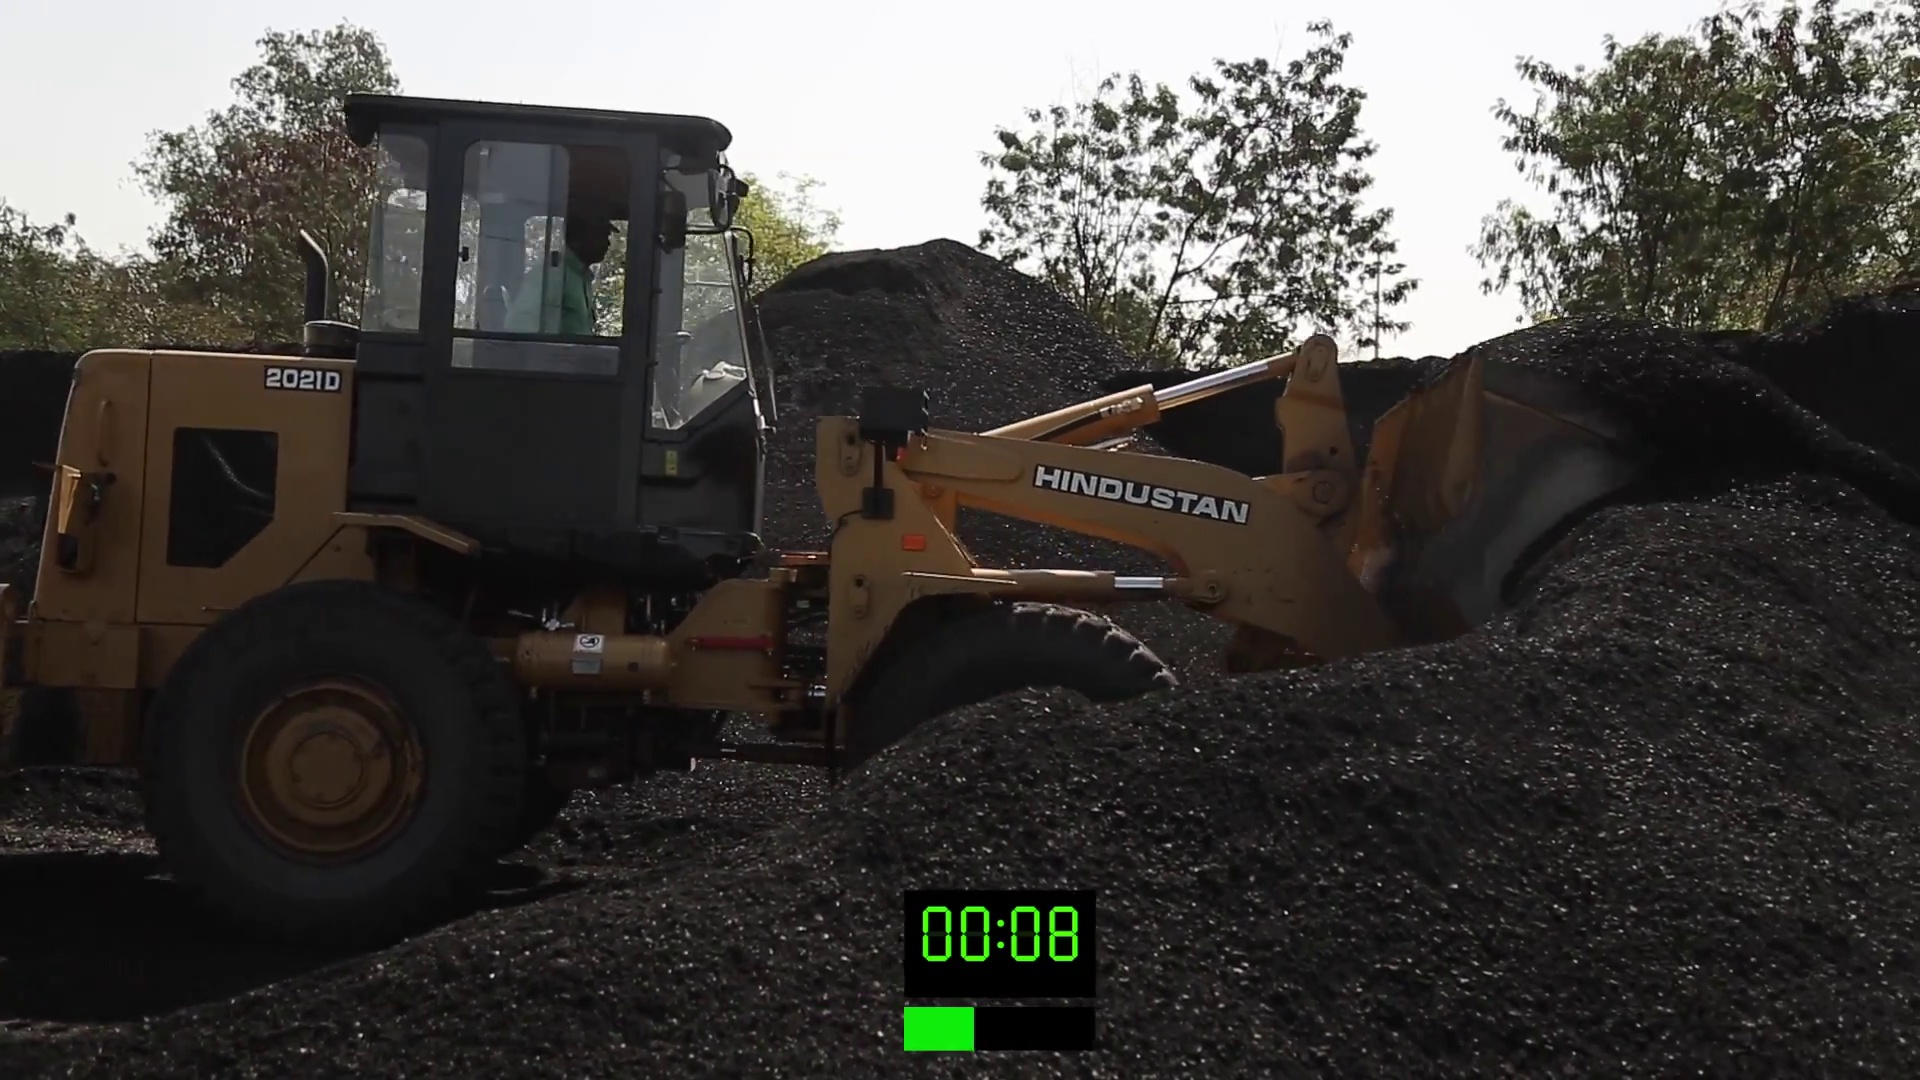person: (505, 200, 623, 346)
wheel loader: (24, 88, 1747, 953)
